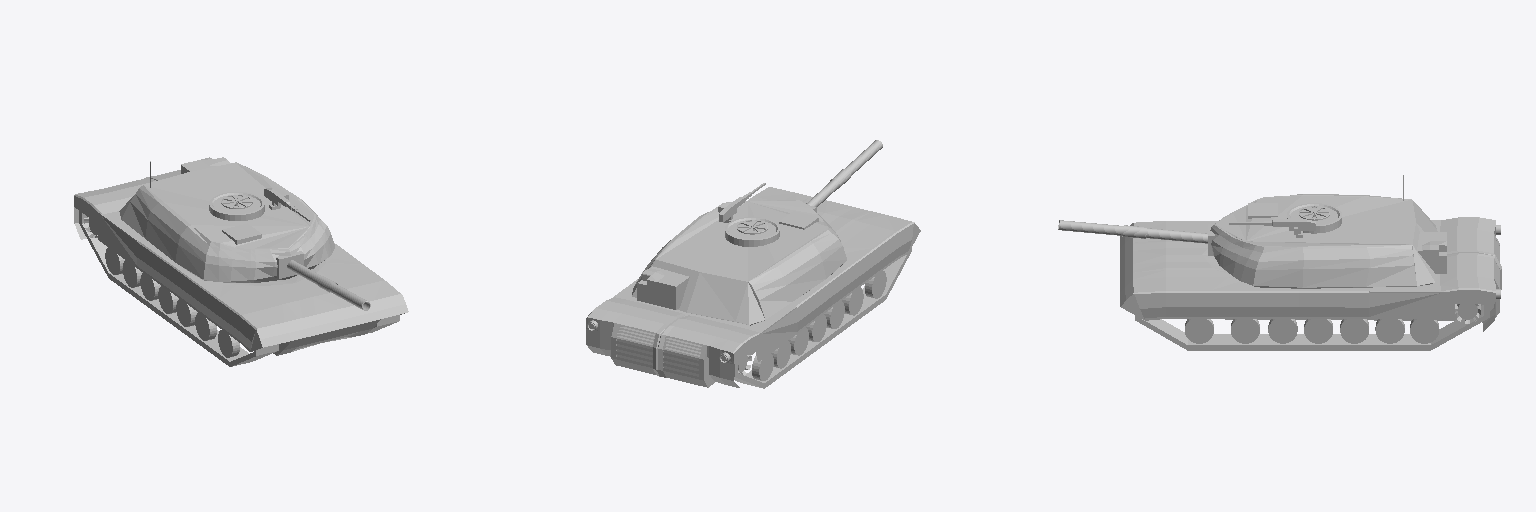
Rendered from tank.obj.
3 views of the same model, side by side, from view 1: azimuth 30°, elevation 25°; view 2: azimuth 150°, elevation 25°; view 3: azimuth 270°, elevation 25° (orthographic).
Parts seen in each view (by area): view 1: Plane.001_Plane.000, Plane.000_Plane.002, Cube.004, Cylinder; view 2: Plane.001_Plane.000, Plane.000_Plane.002, Cube.004, Cube, Cylinder; view 3: Plane.001_Plane.000, Plane.000_Plane.002, Cube.003, Cylinder, Cube, Cube.002, Cylinder.008, Cylinder.005, Cylinder.006, Cylinder.010, Cylinder.009, Cylinder.007 (+1 smaller).
Part boxes in pixels (x1,y1,x2,y2): Plane.001_Plane.000: (74, 170, 408, 355); Plane.000_Plane.002: (119, 161, 334, 282); Cube.004: (79, 211, 278, 366); Cylinder: (287, 260, 370, 310); Plane.001_Plane.000: (586, 187, 920, 387); Plane.000_Plane.002: (632, 200, 846, 325); Cube.004: (734, 248, 911, 388); Cube: (637, 266, 689, 309); Cylinder: (806, 140, 882, 206); Plane.001_Plane.000: (1120, 217, 1501, 331); Plane.000_Plane.002: (1210, 175, 1437, 288); Cube.003: (1135, 304, 1489, 350); Cylinder: (1058, 220, 1207, 243); Cube: (1417, 232, 1446, 273); Cube.002: (1229, 219, 1315, 237); Cylinder.008: (1268, 319, 1297, 343); Cylinder.005: (1375, 319, 1404, 343); Cylinder.006: (1340, 319, 1368, 343); Cylinder.010: (1185, 319, 1213, 343); Cylinder.009: (1231, 319, 1259, 343); Cylinder.007: (1304, 319, 1332, 343).
Size of the model in its own units: 9.86 by 7.54 by 25.24.